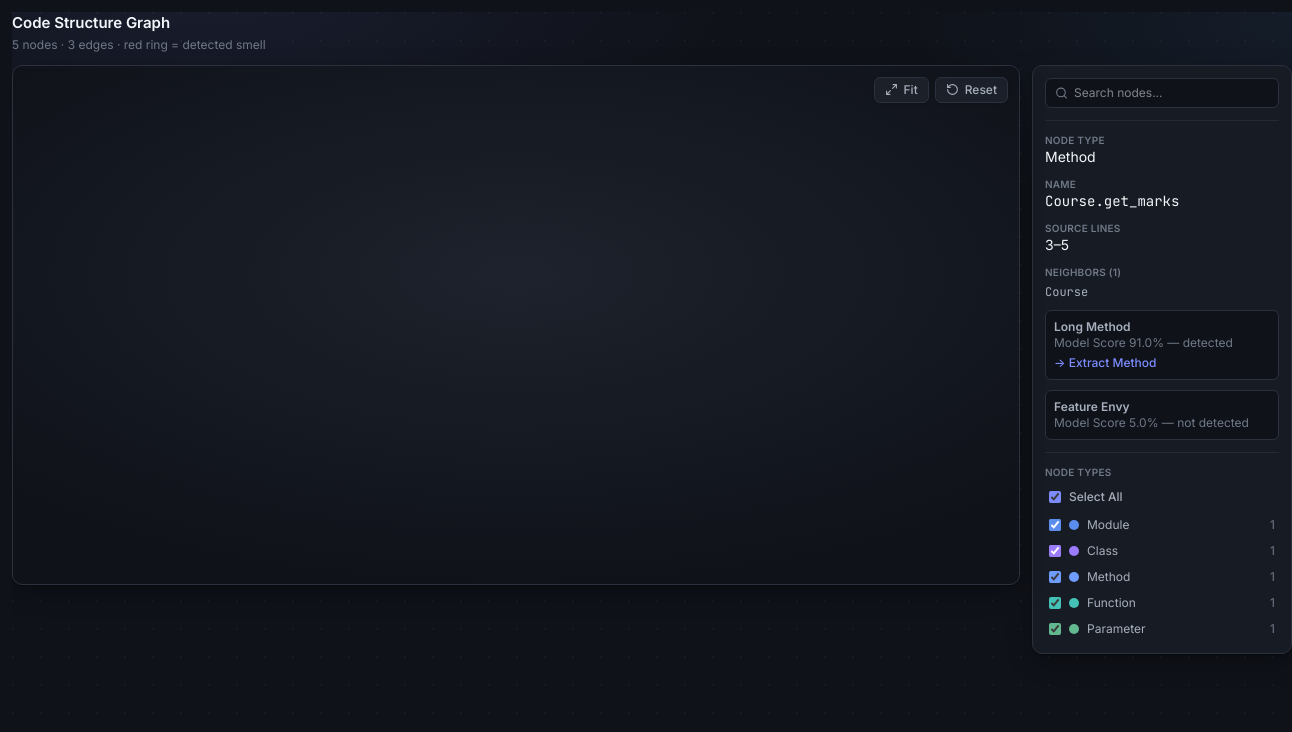
Test: CodeGraph › reset view clears node selection
The width and height of the screenshot is (1292, 732).
Expected: the text "Course.get_marks" is shown, 1045,192 -> 1179,210
Click the button "Reset": (971, 90) 935,76 -> 1008,102
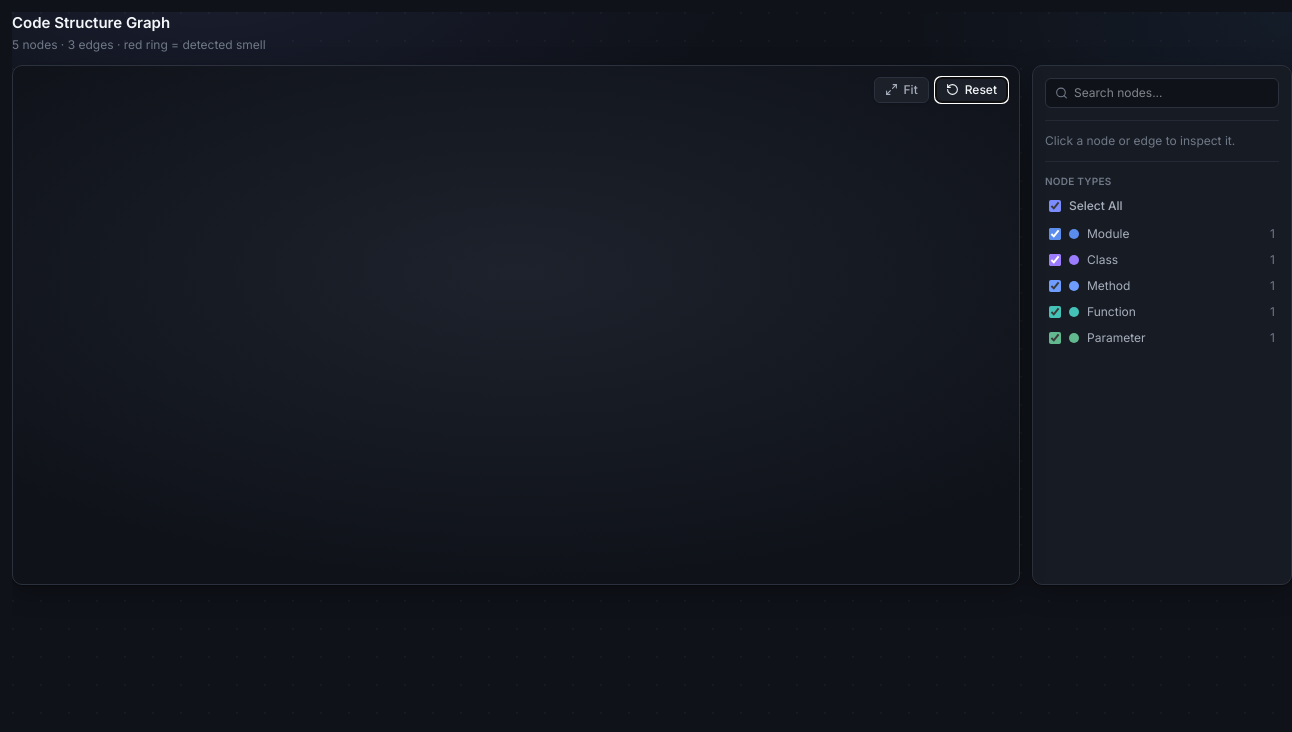
Now the text "Click a node or edge to inspect it." is shown, box 1045,132 -> 1235,148
